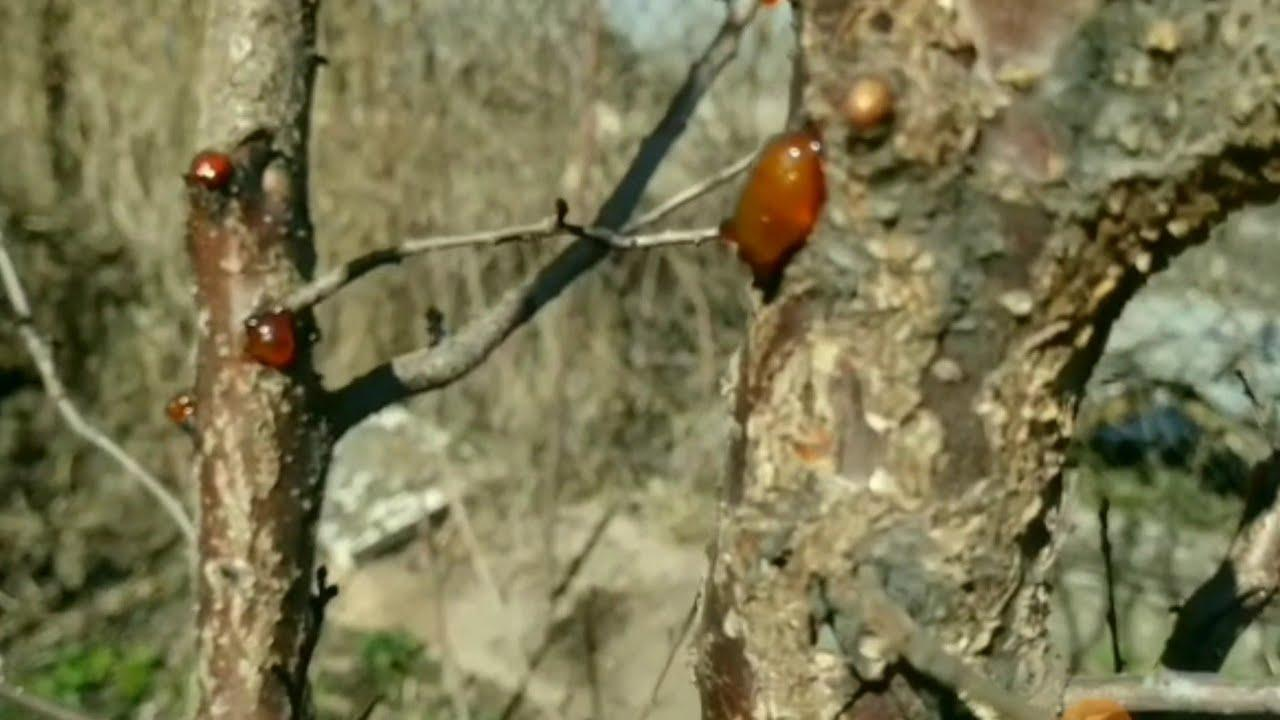gommosis: (721, 128, 825, 299), (245, 310, 296, 369), (842, 76, 894, 131), (189, 151, 232, 189), (166, 392, 194, 436)
